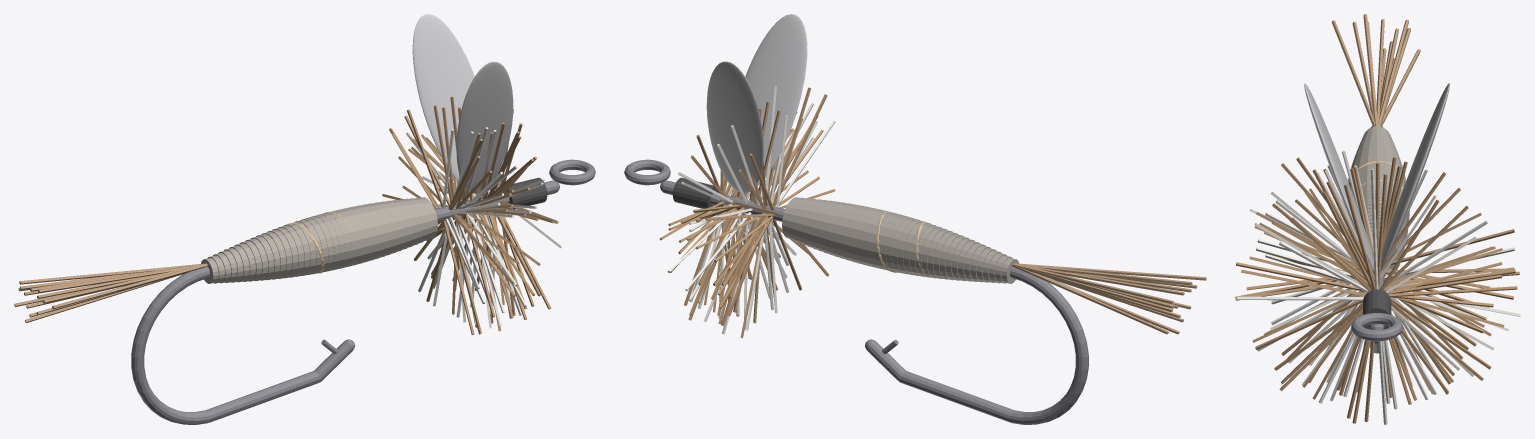
File: mosca-secca.glb
3 views of the same model, side by side, from view 1: azimuth 30°, elevation 25°; view 2: azimuth 150°, elevation 25°; view 3: azimuth 270°, elevation 25° (orthographic). The views are drawn at different scales.
Visible parts, largest first — view 1: corpo, hackle_marrone, amo, hackle_grizzly, ala_sx, ala_dx, coda, testa; view 2: corpo, hackle_marrone, amo, hackle_grizzly, ala_dx, ala_sx, coda, testa; view 3: hackle_marrone, hackle_grizzly, coda, corpo, ala_sx, ala_dx, amo, testa.
Boxes of the visible parts, x1=… form: corpo: x1=201, y1=197, x2=437, y2=283; hackle_marrone: x1=382, y1=96, x2=558, y2=334; amo: x1=131, y1=159, x2=595, y2=424; hackle_grizzly: x1=406, y1=127, x2=561, y2=328; ala_sx: x1=412, y1=14, x2=474, y2=181; ala_dx: x1=456, y1=61, x2=513, y2=193; coda: x1=14, y1=263, x2=207, y2=323; testa: x1=507, y1=177, x2=547, y2=209; corpo: x1=782, y1=197, x2=1018, y2=283; hackle_marrone: x1=659, y1=87, x2=835, y2=338; amo: x1=624, y1=159, x2=1088, y2=424; hackle_grizzly: x1=667, y1=86, x2=835, y2=334; ala_dx: x1=745, y1=14, x2=807, y2=185; ala_sx: x1=706, y1=61, x2=763, y2=193; coda: x1=1012, y1=263, x2=1206, y2=334; testa: x1=672, y1=177, x2=718, y2=208; hackle_marrone: x1=1235, y1=157, x2=1519, y2=423; hackle_grizzly: x1=1237, y1=150, x2=1520, y2=424; coda: x1=1331, y1=14, x2=1420, y2=126; corpo: x1=1348, y1=126, x2=1409, y2=269; ala_sx: x1=1380, y1=83, x2=1449, y2=270; ala_dx: x1=1304, y1=83, x2=1374, y2=271; amo: x1=1351, y1=126, x2=1402, y2=353; testa: x1=1363, y1=289, x2=1391, y2=329.
Bounding box in the file's own units: 1.77 × 0.9795 × 0.7046.
